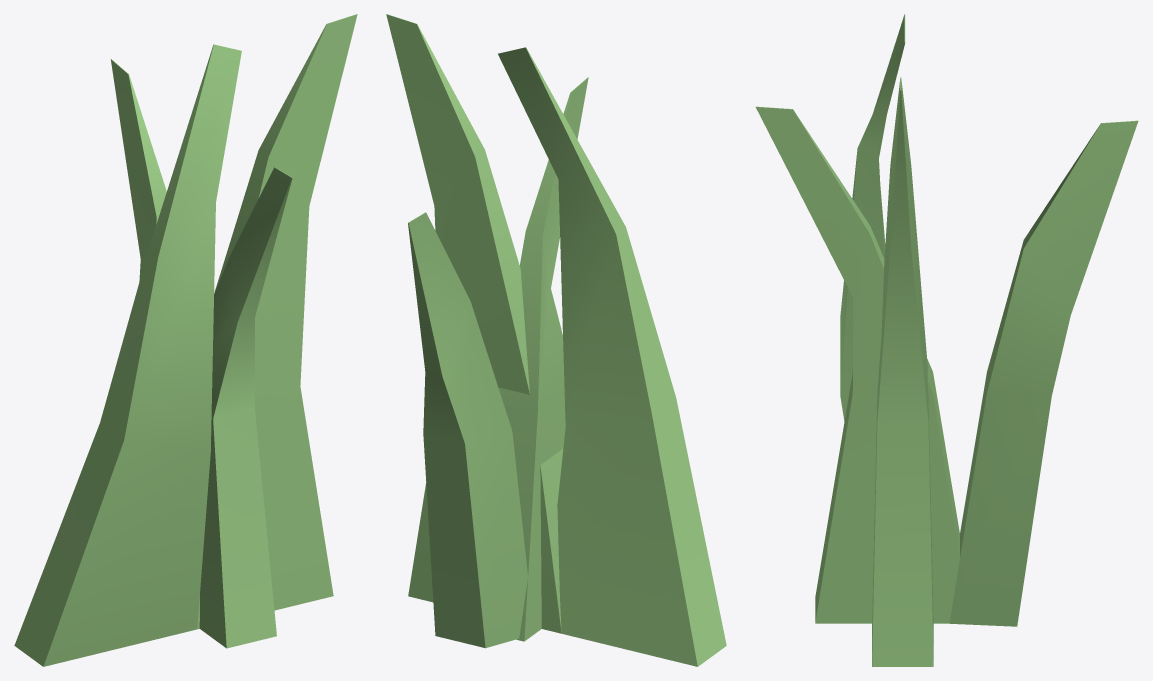
Rendered from grass7.fbx.
3 views of the same model, side by side, from view 1: azimuth 30°, elevation 25°; view 2: azimuth 150°, elevation 25°; view 3: azimuth 270°, elevation 25° (orthographic). The views are drawn at different scales.
Parts seen in each view (by area): view 1: pCube70, pCube69, pCube42, pCube43; view 2: pCube70, pCube43, pCube69, pCube42; view 3: pCube43, pCube42, pCube69, pCube70.
Part boxes in pixels (<box>): pCube70: <box>14,44,241,666</box>; pCube69: <box>180,14,357,633</box>; pCube42: <box>199,167,292,648</box>; pCube43: <box>110,59,166,281</box>; pCube70: <box>498,47,726,666</box>; pCube43: <box>408,212,527,648</box>; pCube69: <box>386,14,563,633</box>; pCube42: <box>498,77,588,641</box>; pCube43: <box>949,120,1138,626</box>; pCube42: <box>755,106,959,623</box>; pCube69: <box>872,77,933,666</box>; pCube70: <box>840,14,905,421</box>.
Bounding box in the file's own units: 1.59 × 2.63 × 1.52.
